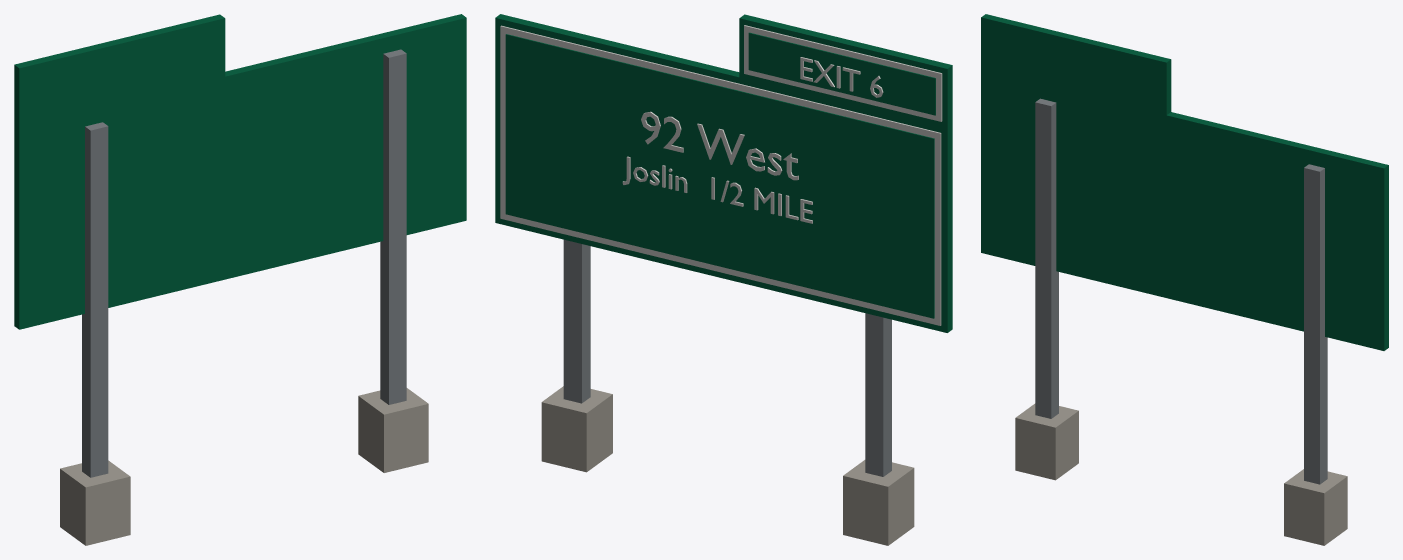
The model's file is exit6e.glb.
The picture shows the model from 3 angles, left to right: view 1: azimuth 30°, elevation 25°; view 2: azimuth 150°, elevation 25°; view 3: azimuth 330°, elevation 25°; orthographic projection. The views are drawn at different scales.
Visible parts, largest first — view 1: exit6e_lod0; view 2: exit6e_lod0; view 3: exit6e_lod0.
Boxes of the visible parts, <box> form: exit6e_lod0: <box>14,14,466,545</box>; exit6e_lod0: <box>495,14,952,545</box>; exit6e_lod0: <box>981,14,1388,545</box>.
Size of what is drawn, in the model's own units: 6 by 6.15 by 0.6.
